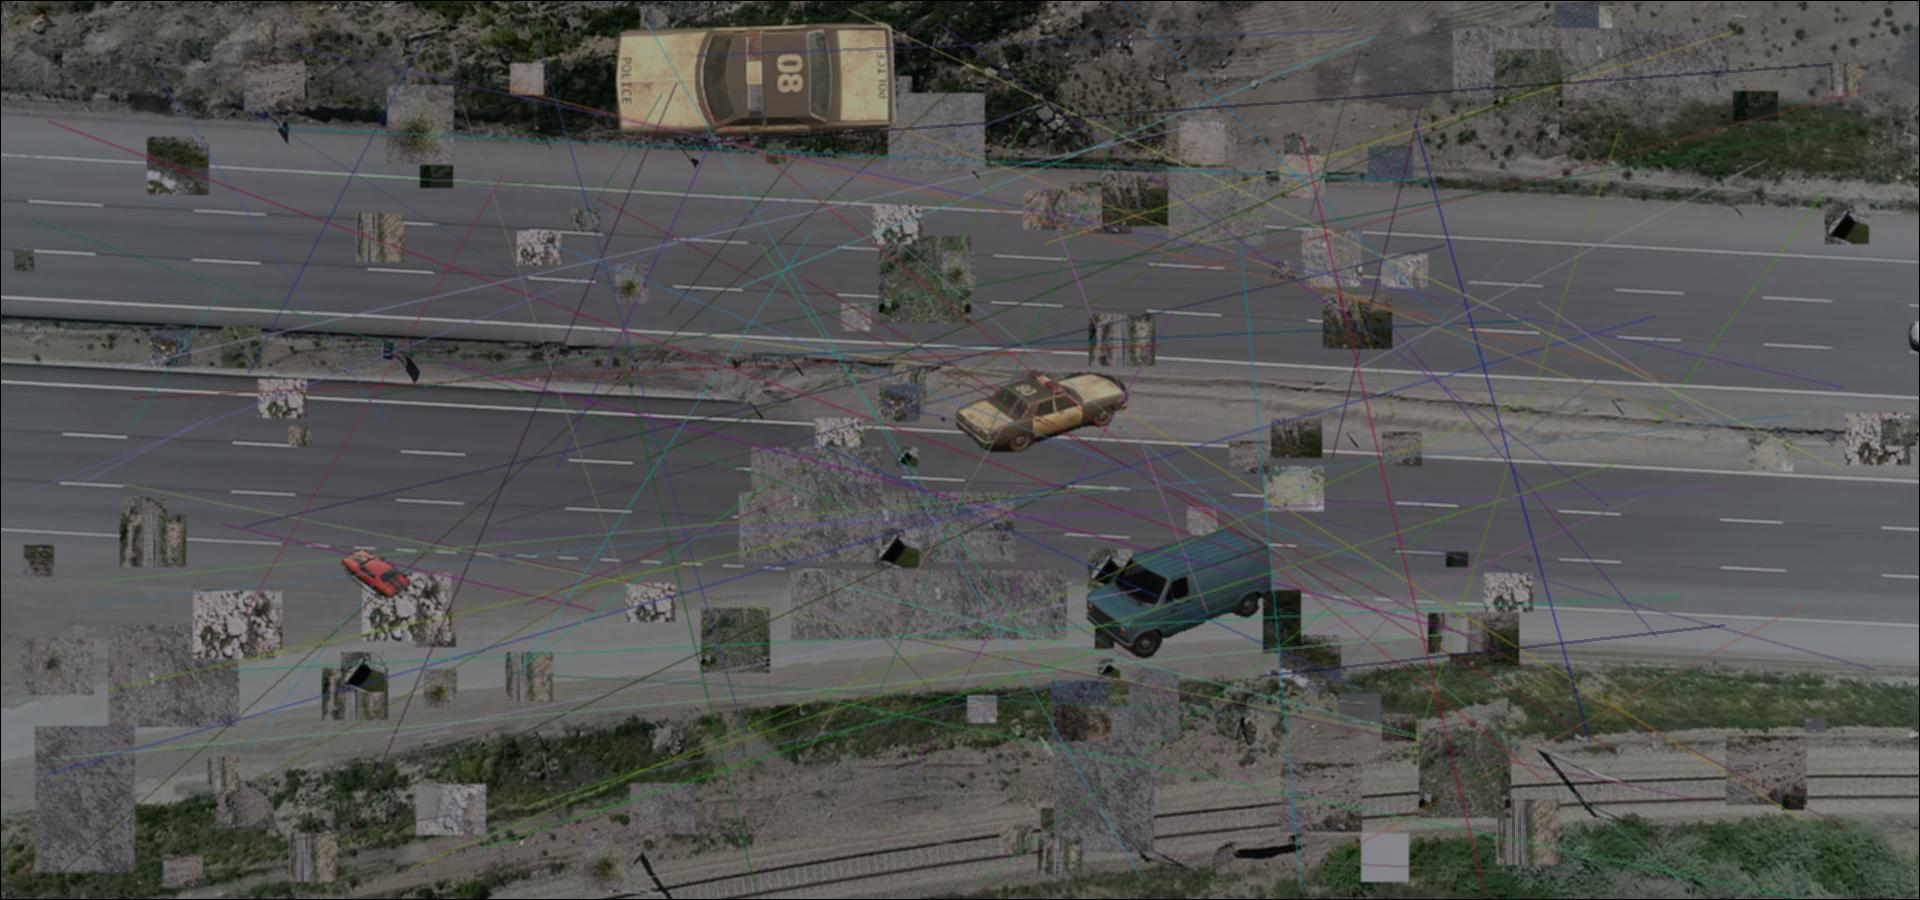arac: (606, 20, 900, 142), (1082, 527, 1271, 658), (956, 364, 1136, 452), (340, 547, 411, 598)
